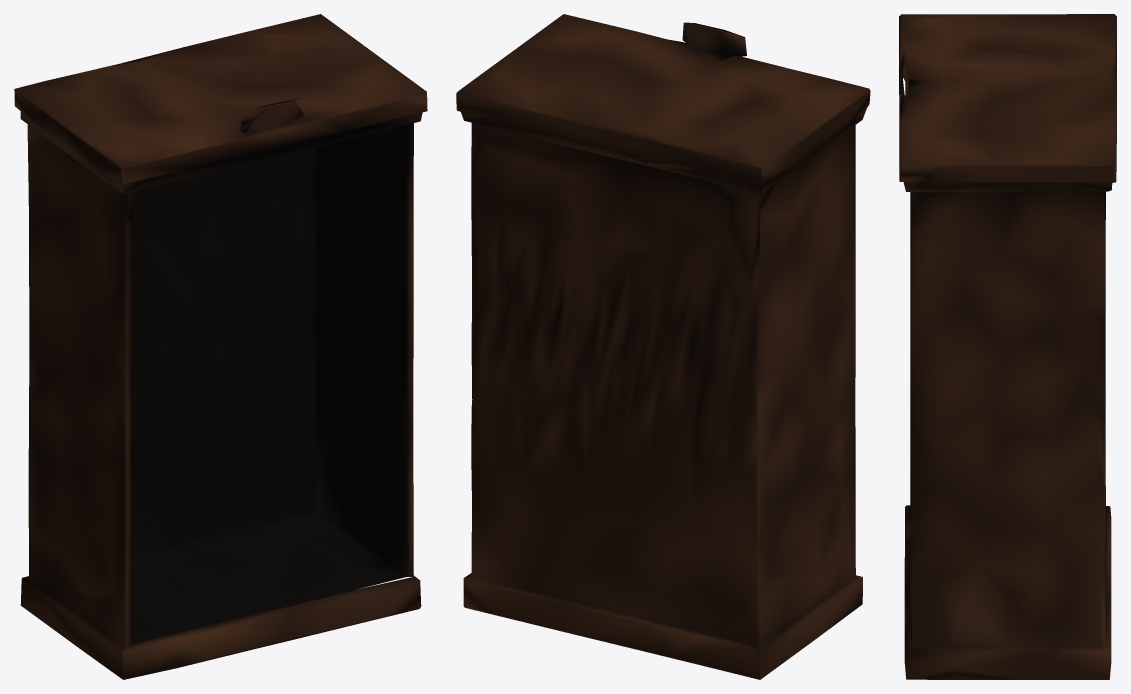
The model's file is wardrobe_body.glb.
The picture shows the model from 3 angles, left to right: view 1: azimuth 30°, elevation 25°; view 2: azimuth 150°, elevation 25°; view 3: azimuth 270°, elevation 25°; orthographic projection.
Parts seen in each view (by area): view 1: wardrobe_body; view 2: wardrobe_body; view 3: wardrobe_body.
Part boxes in pixels (x1,y1,x2,y2): wardrobe_body: (14,14,427,679); wardrobe_body: (456,14,870,679); wardrobe_body: (899,14,1116,679).
Bounding box in the file's own units: 1.28 × 2.14 × 0.7796.
